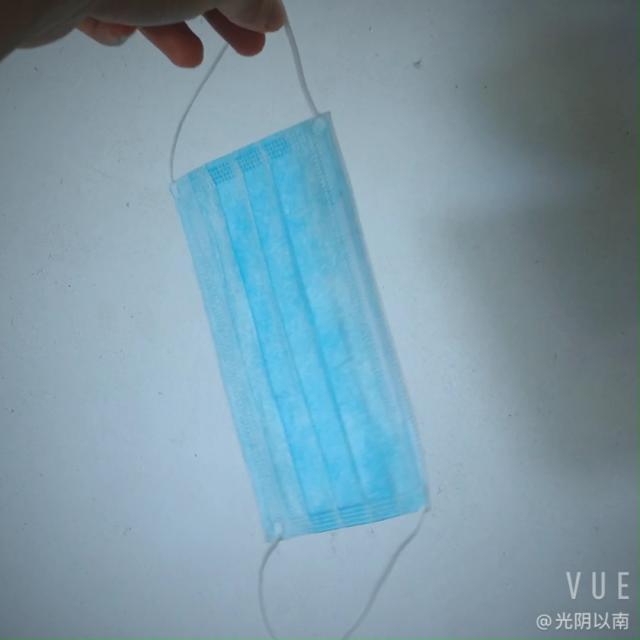face mask: (172, 98, 454, 520)
